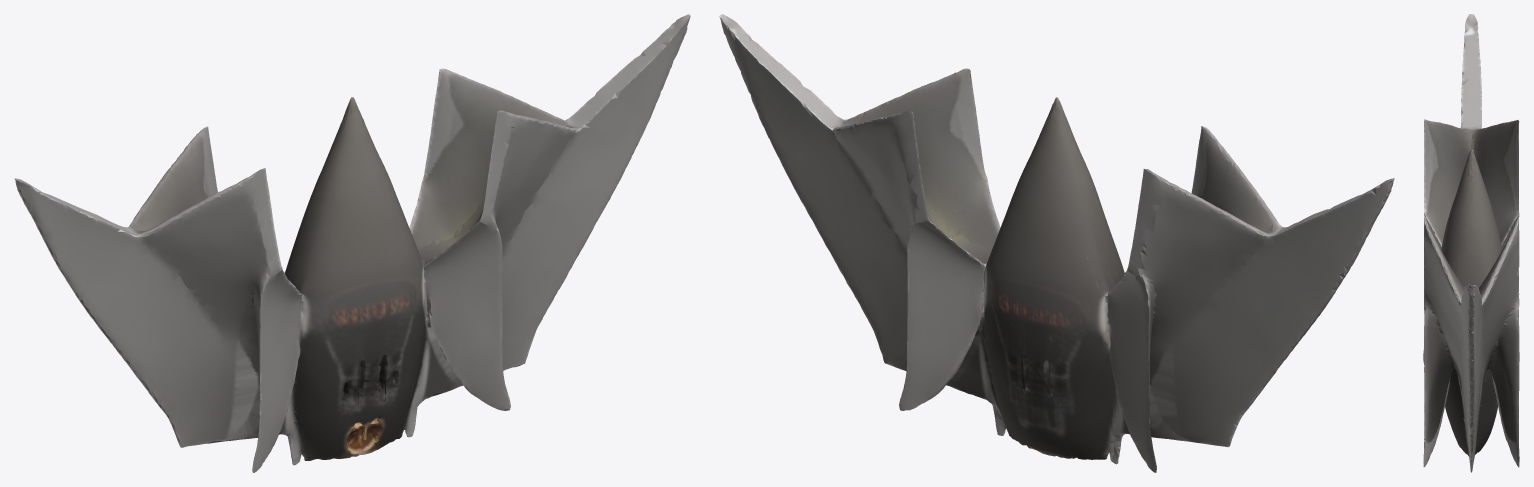
The model's file is falcon_wing_R.glb.
3 views of the same model, side by side, from view 1: azimuth 30°, elevation 25°; view 2: azimuth 150°, elevation 25°; view 3: azimuth 270°, elevation 25° (orthographic). The views are drawn at different scales.
Parts seen in each view (by area): view 1: falcon_wing_R; view 2: falcon_wing_R; view 3: falcon_wing_R.
Boxes of the visible parts, bbox=[...] form: falcon_wing_R: bbox=[14, 14, 690, 472]; falcon_wing_R: bbox=[719, 14, 1394, 472]; falcon_wing_R: bbox=[1423, 14, 1519, 472].
Size of the model in its own units: 1.89 by 0.9484 by 0.284.
Materials: 1 (1 with a texture image).
